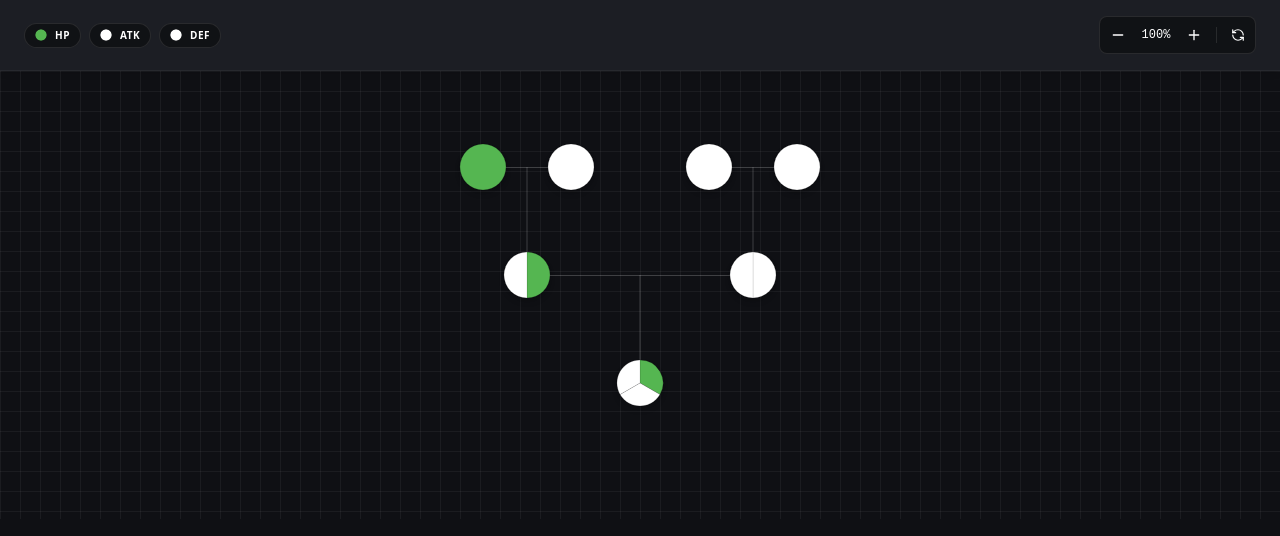
Test: TreeScheme component › handles zoom controls including reset
Click the button with class "lucide-minus".
click(1118, 35)  # box x1=1104 y1=21 x2=1132 y2=49
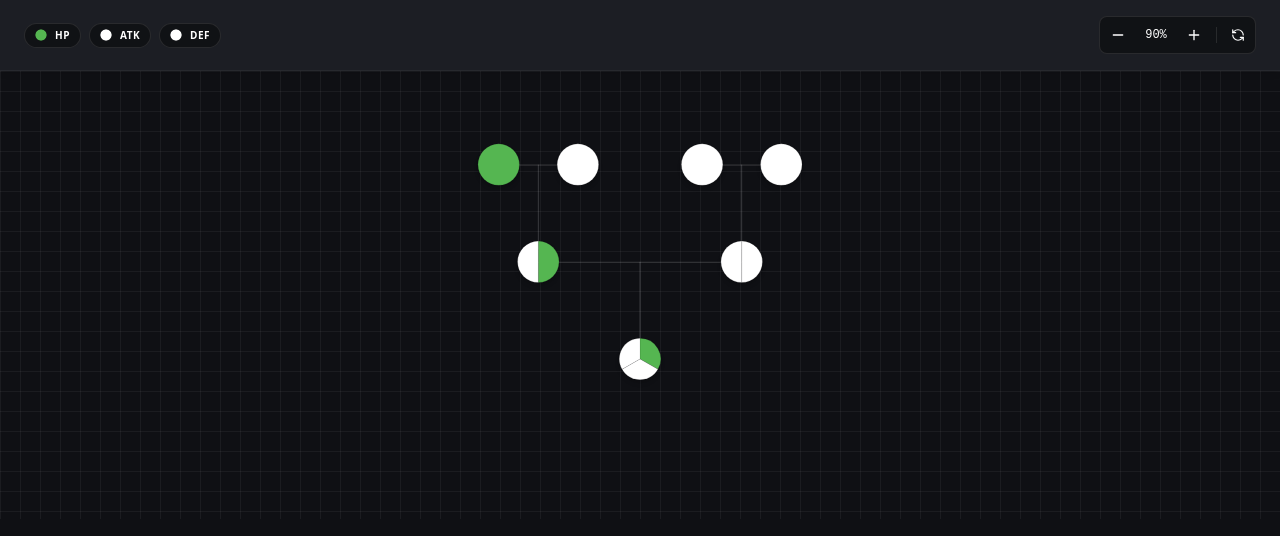
Check: the text "90%" is shown, box x1=1145 y1=28 x2=1167 y2=42
Click the button with class "lucide-plus".
click(1194, 35)  # box x1=1180 y1=21 x2=1208 y2=49
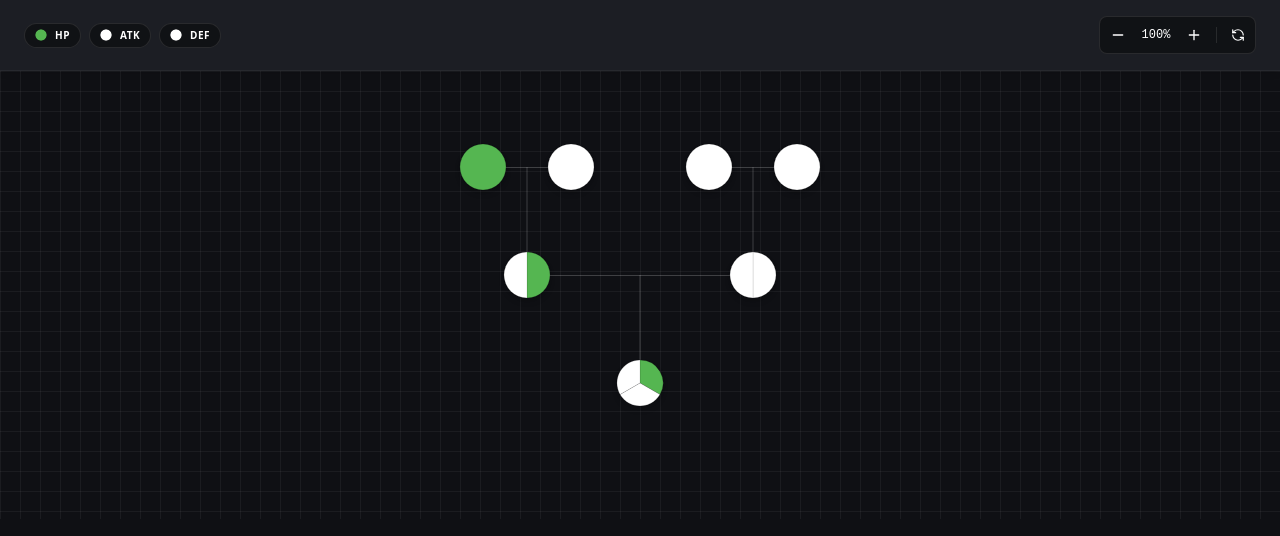
Click the button with class "lucide-plus".
click(1194, 35)  # box x1=1180 y1=21 x2=1208 y2=49
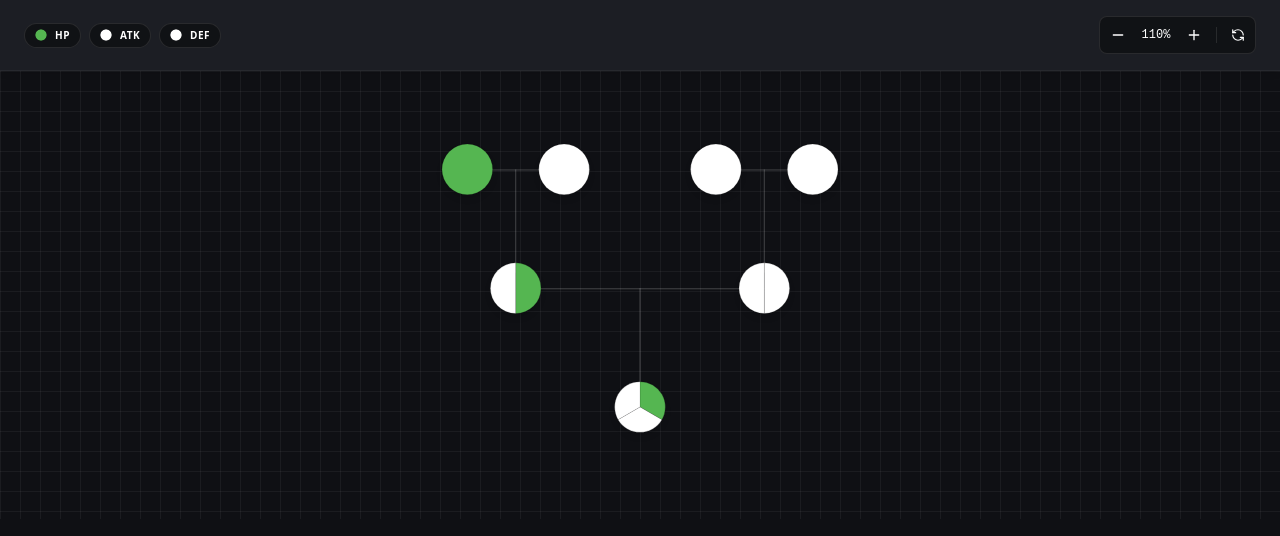
Check: the text "110%" is shown, box x1=1142 y1=28 x2=1170 y2=42
Reset Zoom
Click the button titled "Reset Zoom".
click(1238, 35)  # box x1=1225 y1=22 x2=1251 y2=48
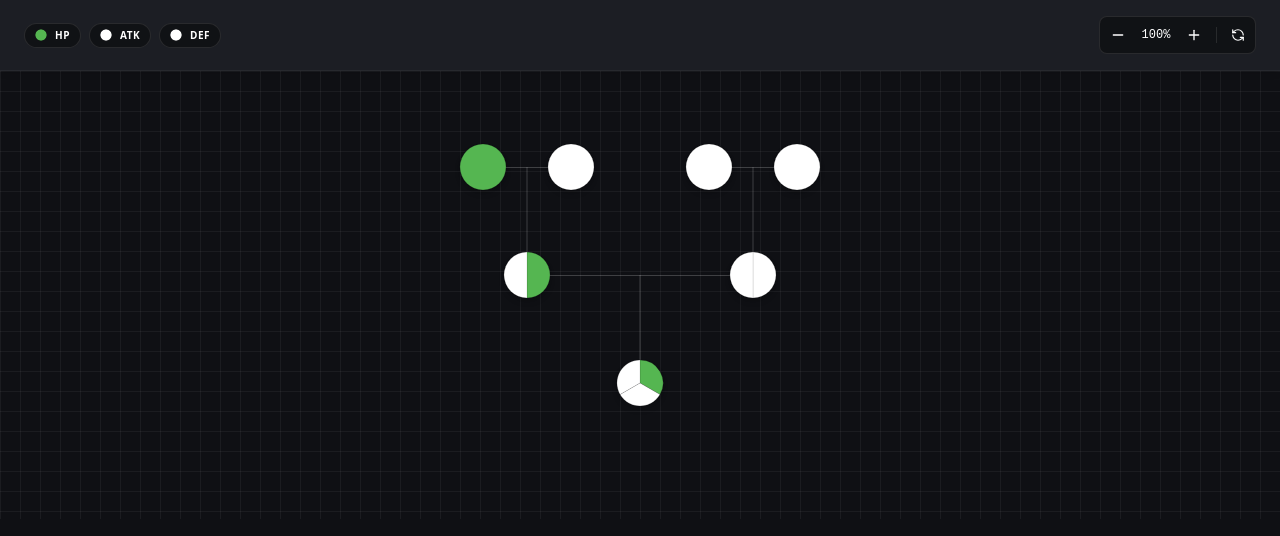
Check: the text "100%" is shown, box x1=1142 y1=28 x2=1170 y2=42
